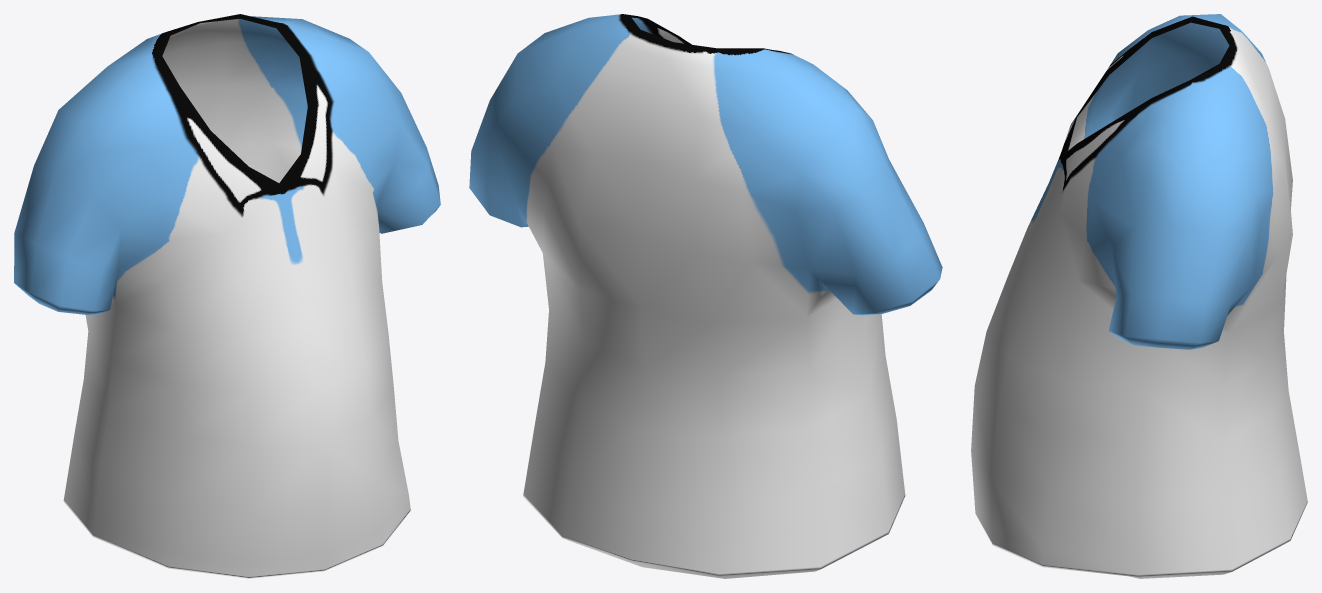
File: AF_M_Jacket_08.FBX
3 views of the same model, side by side, from view 1: azimuth 30°, elevation 25°; view 2: azimuth 150°, elevation 25°; view 3: azimuth 270°, elevation 25° (orthographic). The views are drawn at different scales.
Visible parts, largest first — view 1: AF_M_Jacket_08; view 2: AF_M_Jacket_08; view 3: AF_M_Jacket_08.
Boxes of the visible parts, <box> form: AF_M_Jacket_08: <box>14,14,440,578</box>; AF_M_Jacket_08: <box>469,14,942,578</box>; AF_M_Jacket_08: <box>971,14,1307,578</box>.
Size of the model in its own units: 468 by 501 by 325.
